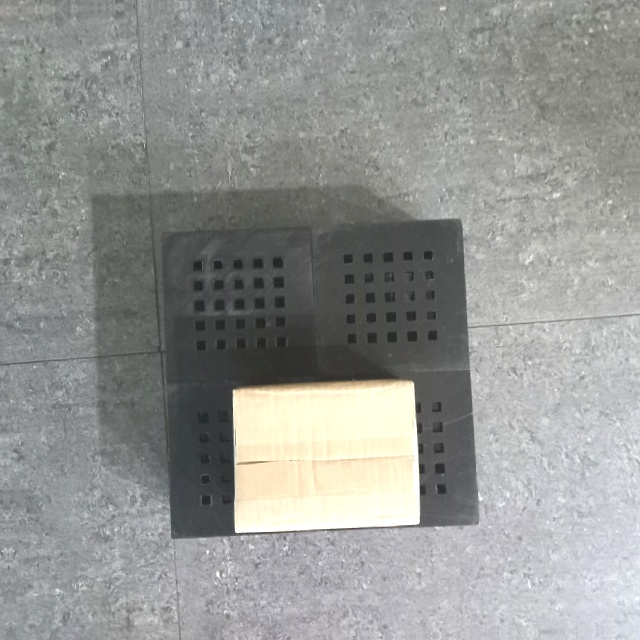box: (228, 377, 420, 536)
pallet: (151, 214, 479, 543)
